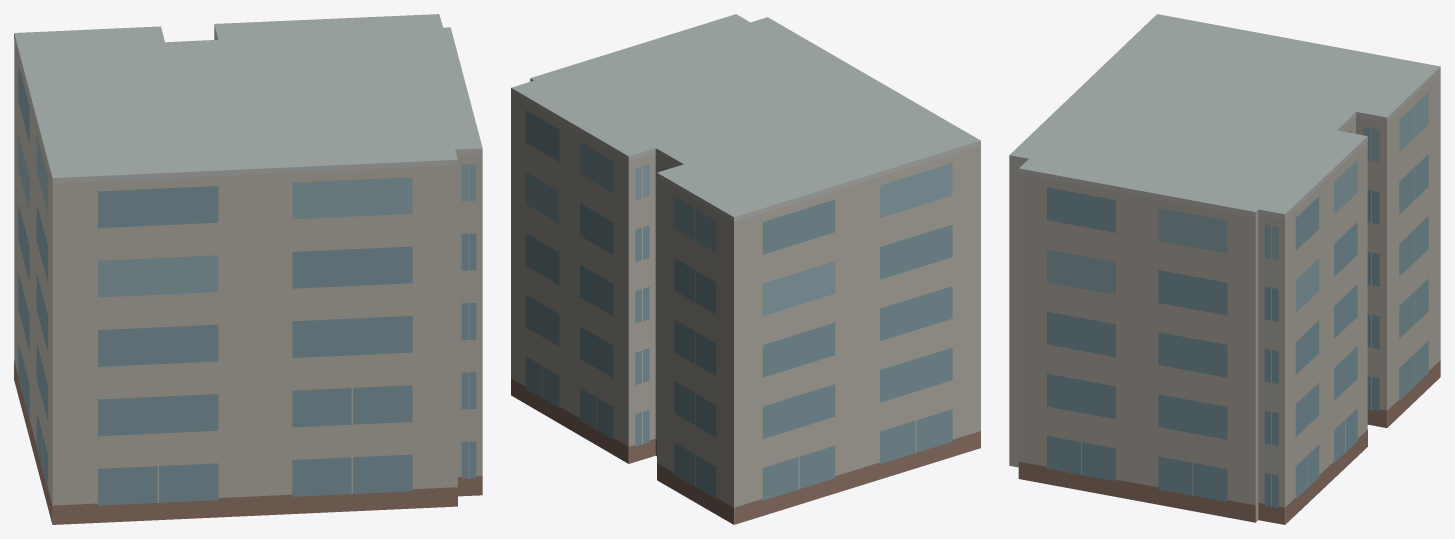
File: survey-upis-33005635.glb
3 renders of one model, left to right at view 1: azimuth 30°, elevation 25°; view 2: azimuth 150°, elevation 25°; view 3: azimuth 270°, elevation 25°, orthographic. The views are drawn at different scales.
Visible parts, largest first — view 1: survey-upis-33005635.tmp; view 2: survey-upis-33005635.tmp; view 3: survey-upis-33005635.tmp.
Part boxes in pixels (x1,y1,x2,y2): survey-upis-33005635.tmp: (14, 14, 482, 524); survey-upis-33005635.tmp: (511, 14, 980, 524); survey-upis-33005635.tmp: (1009, 14, 1440, 524).
Size of the model in its own units: 21.24 by 15.35 by 19.33.
